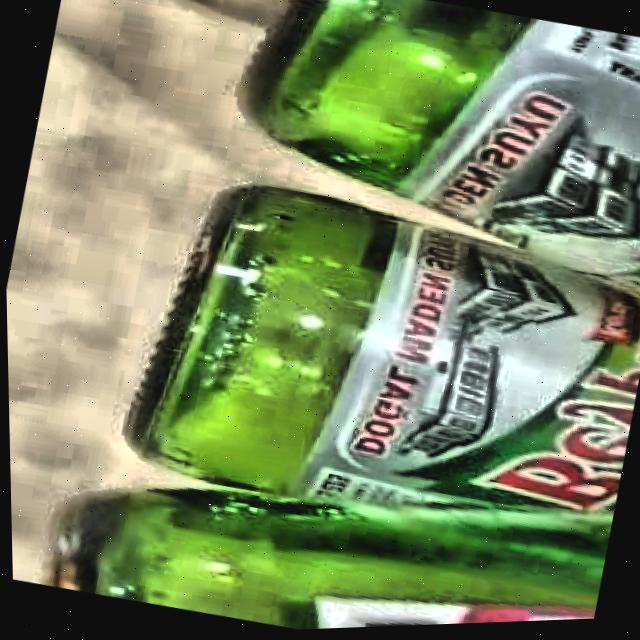glass: (48, 0, 640, 632)
